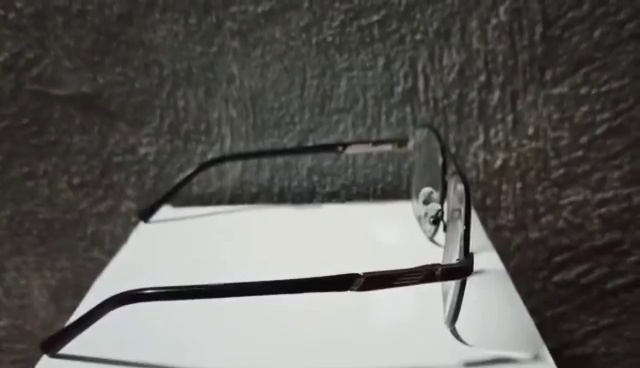glasses: (55, 125, 476, 355)
